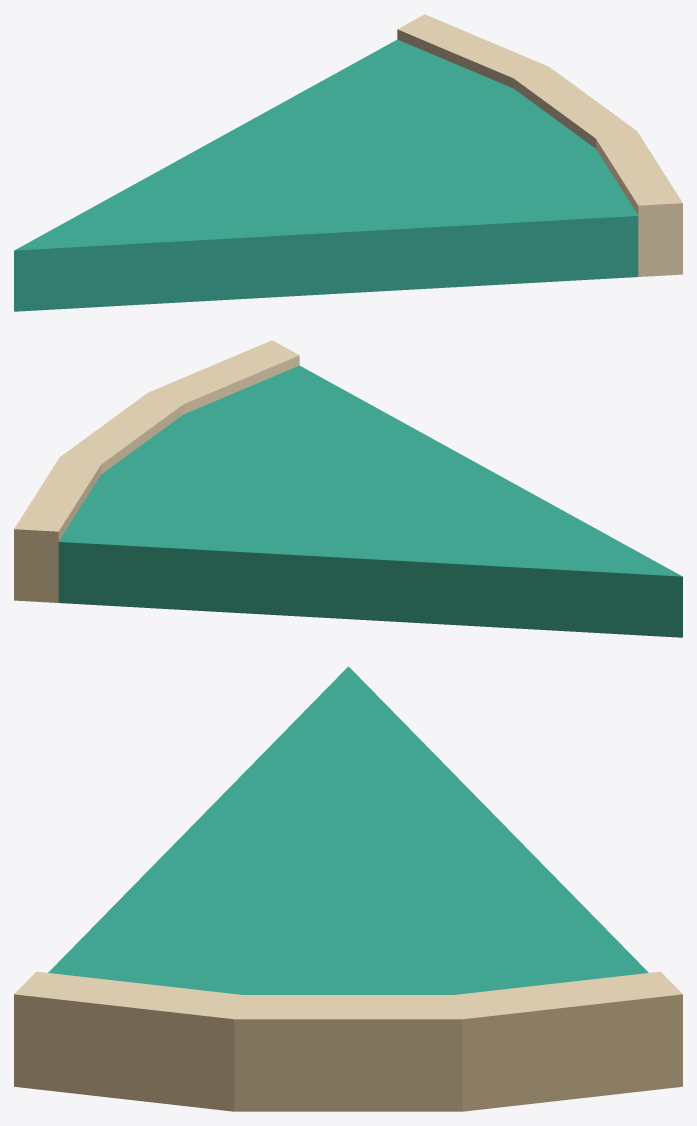
File: pie_slice_8.glb
The picture shows the model from 3 angles, top to bottom: view 1: azimuth 30°, elevation 25°; view 2: azimuth 150°, elevation 25°; view 3: azimuth 270°, elevation 25°; orthographic projection. The views are drawn at different scales.
Visible parts, largest first — view 1: slice; view 2: slice; view 3: slice.
Boxes of the visible parts, x1,y1,x2,y2 form: slice: (14,14,682,311); slice: (14,340,682,637); slice: (14,666,682,1111).
Bounding box in the file's own units: 0.0595 × 0.007 × 0.0459.
